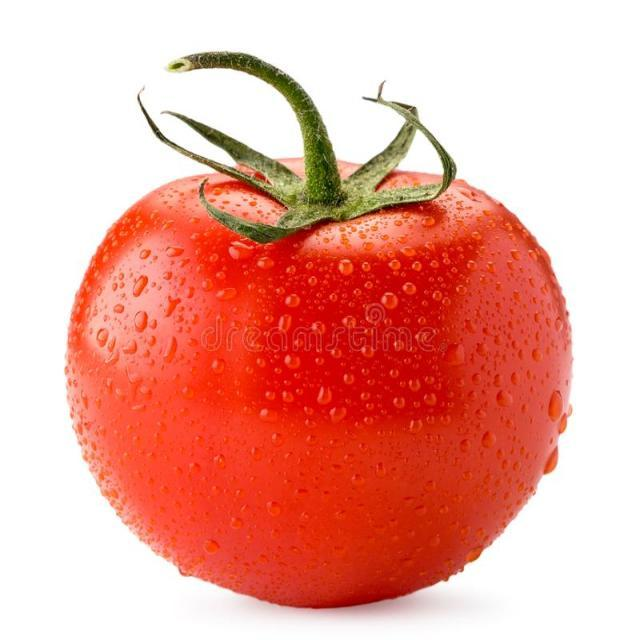kirmizi: (64, 132, 596, 626)
